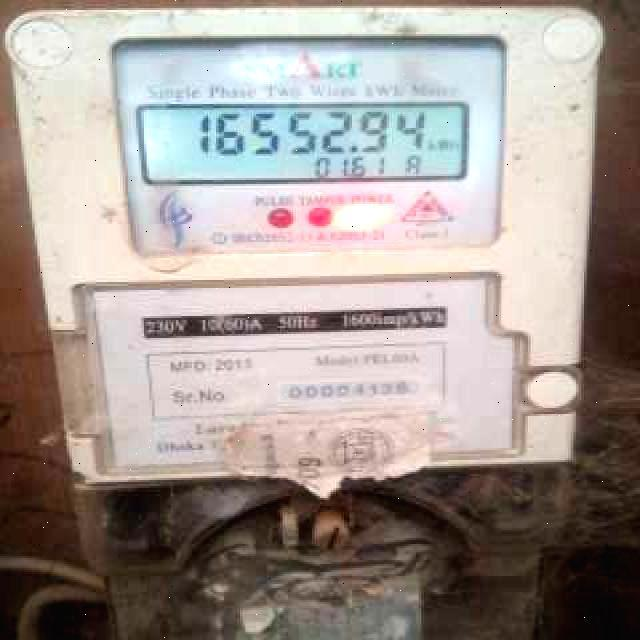LCD: (136, 106, 475, 180)
